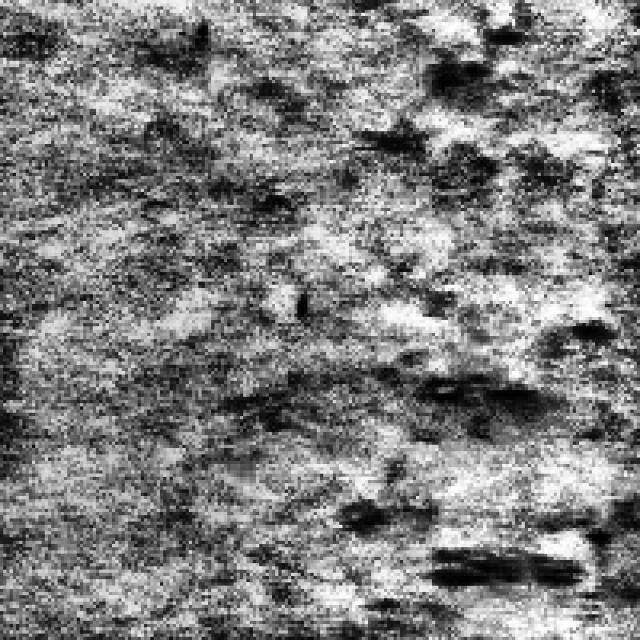Crazing: (371, 298, 608, 602), (368, 48, 608, 150)
